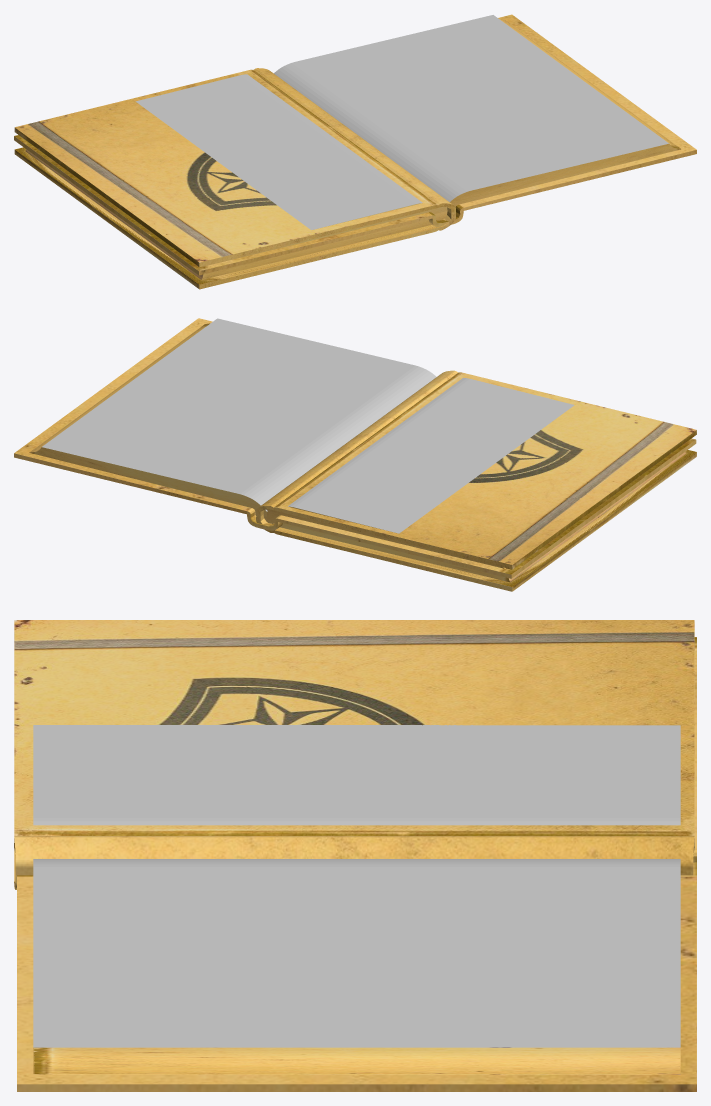
Rendered from bookClosed.fbx.
The picture shows the model from 3 angles, top to bottom: view 1: azimuth 30°, elevation 25°; view 2: azimuth 150°, elevation 25°; view 3: azimuth 270°, elevation 25°; orthographic projection. The views are drawn at different scales.
Visible parts, largest first — view 1: Plane.002, Plane.001; view 2: Plane.002, Plane.001; view 3: Plane.002, Plane.001.
Boxes of the visible parts, x1=… form: Plane.002: x1=14, y1=14, x2=696, y2=275; Plane.001: x1=14, y1=68, x2=455, y2=289; Plane.002: x1=14, y1=318, x2=696, y2=578; Plane.001: x1=256, y1=370, x2=696, y2=591; Plane.002: x1=17, y1=637, x2=696, y2=1091; Plane.001: x1=14, y1=620, x2=694, y2=889.
Size of the model in its own units: 373 by 19.7 by 241.
